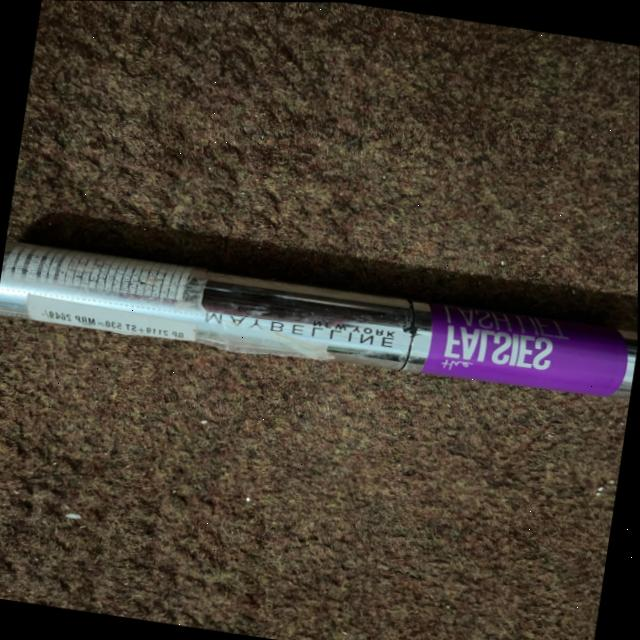mascara: (0, 188, 639, 438)
